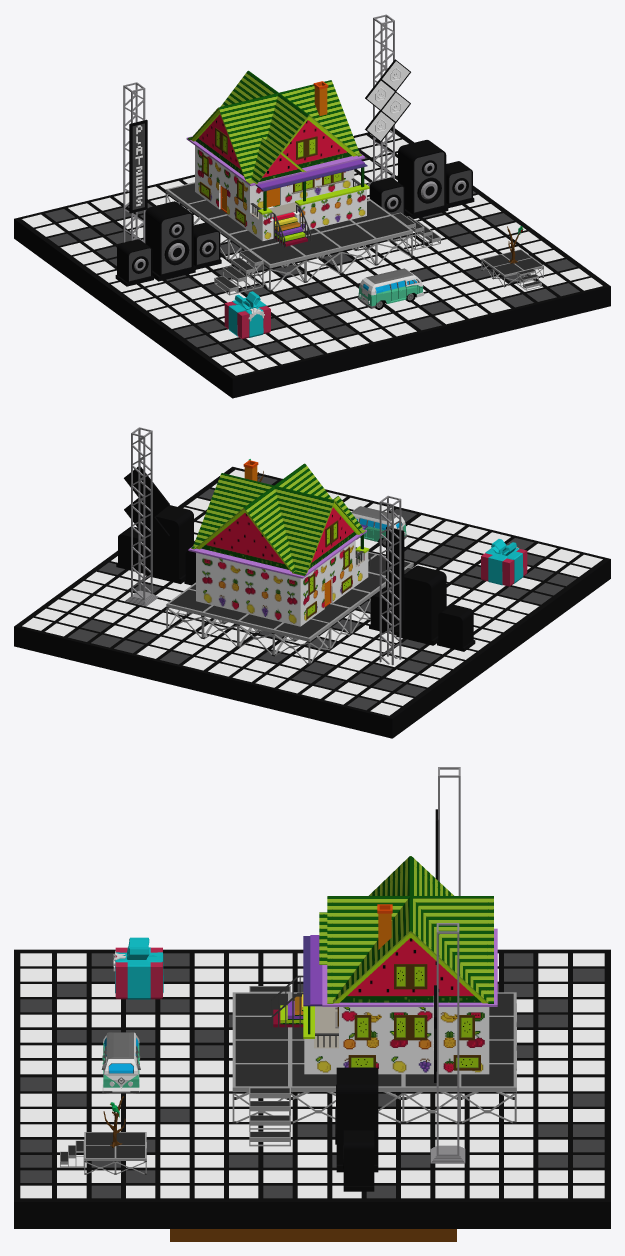
3 renders of one model, top to bottom at view 1: azimuth 30°, elevation 25°; view 2: azimuth 150°, elevation 25°; view 3: azimuth 270°, elevation 25°, orthographic. The views are drawn at different scales.
Visible parts, largest first — view 1: Cube.008, Cube.1063, VEHICLES_VAN, OBJRANDOM_GIANT_PRESENT; view 2: Cube.008, Cube.1063, OBJRANDOM_GIANT_PRESENT, VEHICLES_VAN; view 3: Cube.008, Cube.1063, UNDERGROUND_ART_PIECE_VAN_GOGH, OBJRANDOM_GIANT_PRESENT, VEHICLES_VAN.
Part boxes in pixels (left/top/right/bottom): Cube.008: left=14, top=14, right=610, bottom=398; Cube.1063: left=186, top=70, right=369, bottom=247; VEHICLES_VAN: left=357, top=268, right=424, bottom=309; OBJRANDOM_GIANT_PRESENT: left=224, top=291, right=270, bottom=339; Cube.008: left=14, top=427, right=610, bottom=738; Cube.1063: left=188, top=460, right=370, bottom=626; OBJRANDOM_GIANT_PRESENT: left=481, top=539, right=527, bottom=586; VEHICLES_VAN: left=351, top=506, right=407, bottom=547; Cube.008: left=14, top=767, right=610, bottom=1228; Cube.1063: left=271, top=856, right=497, bottom=1074; UNDERGROUND_ART_PIECE_VAN_GOGH: left=170, top=1229, right=456, bottom=1241; OBJRANDOM_GIANT_PRESENT: left=113, top=937, right=163, bottom=999; VEHICLES_VAN: left=101, top=1032, right=140, bottom=1093.
Bounding box in the file's own units: 4000 × 2098 × 4000.
Materials: 40 (4 with a texture image).
